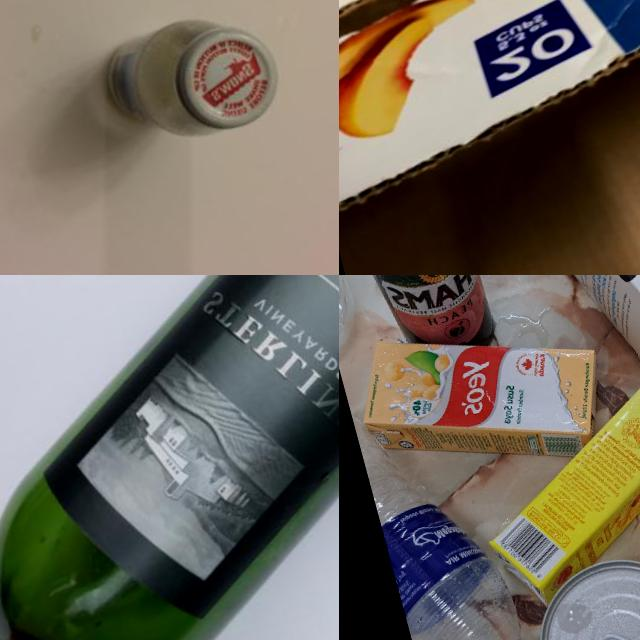caixinha: (344, 287, 620, 506), (458, 366, 640, 617), (524, 275, 640, 452)
garrafa de vidro: (0, 275, 339, 640), (94, 0, 284, 156), (366, 275, 502, 369)
garrafa plástica: (350, 381, 538, 640)
lata: (523, 542, 640, 640)
papelão: (339, 0, 640, 275)
